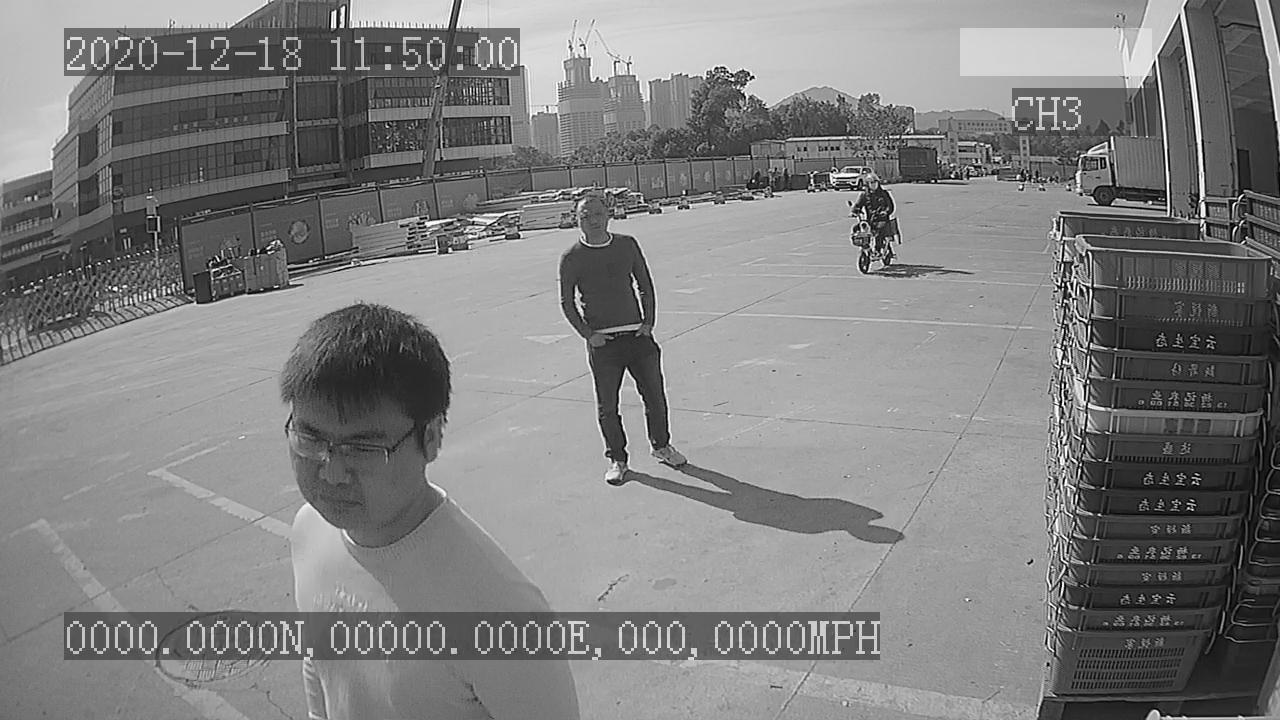person: (554, 192, 693, 488)
